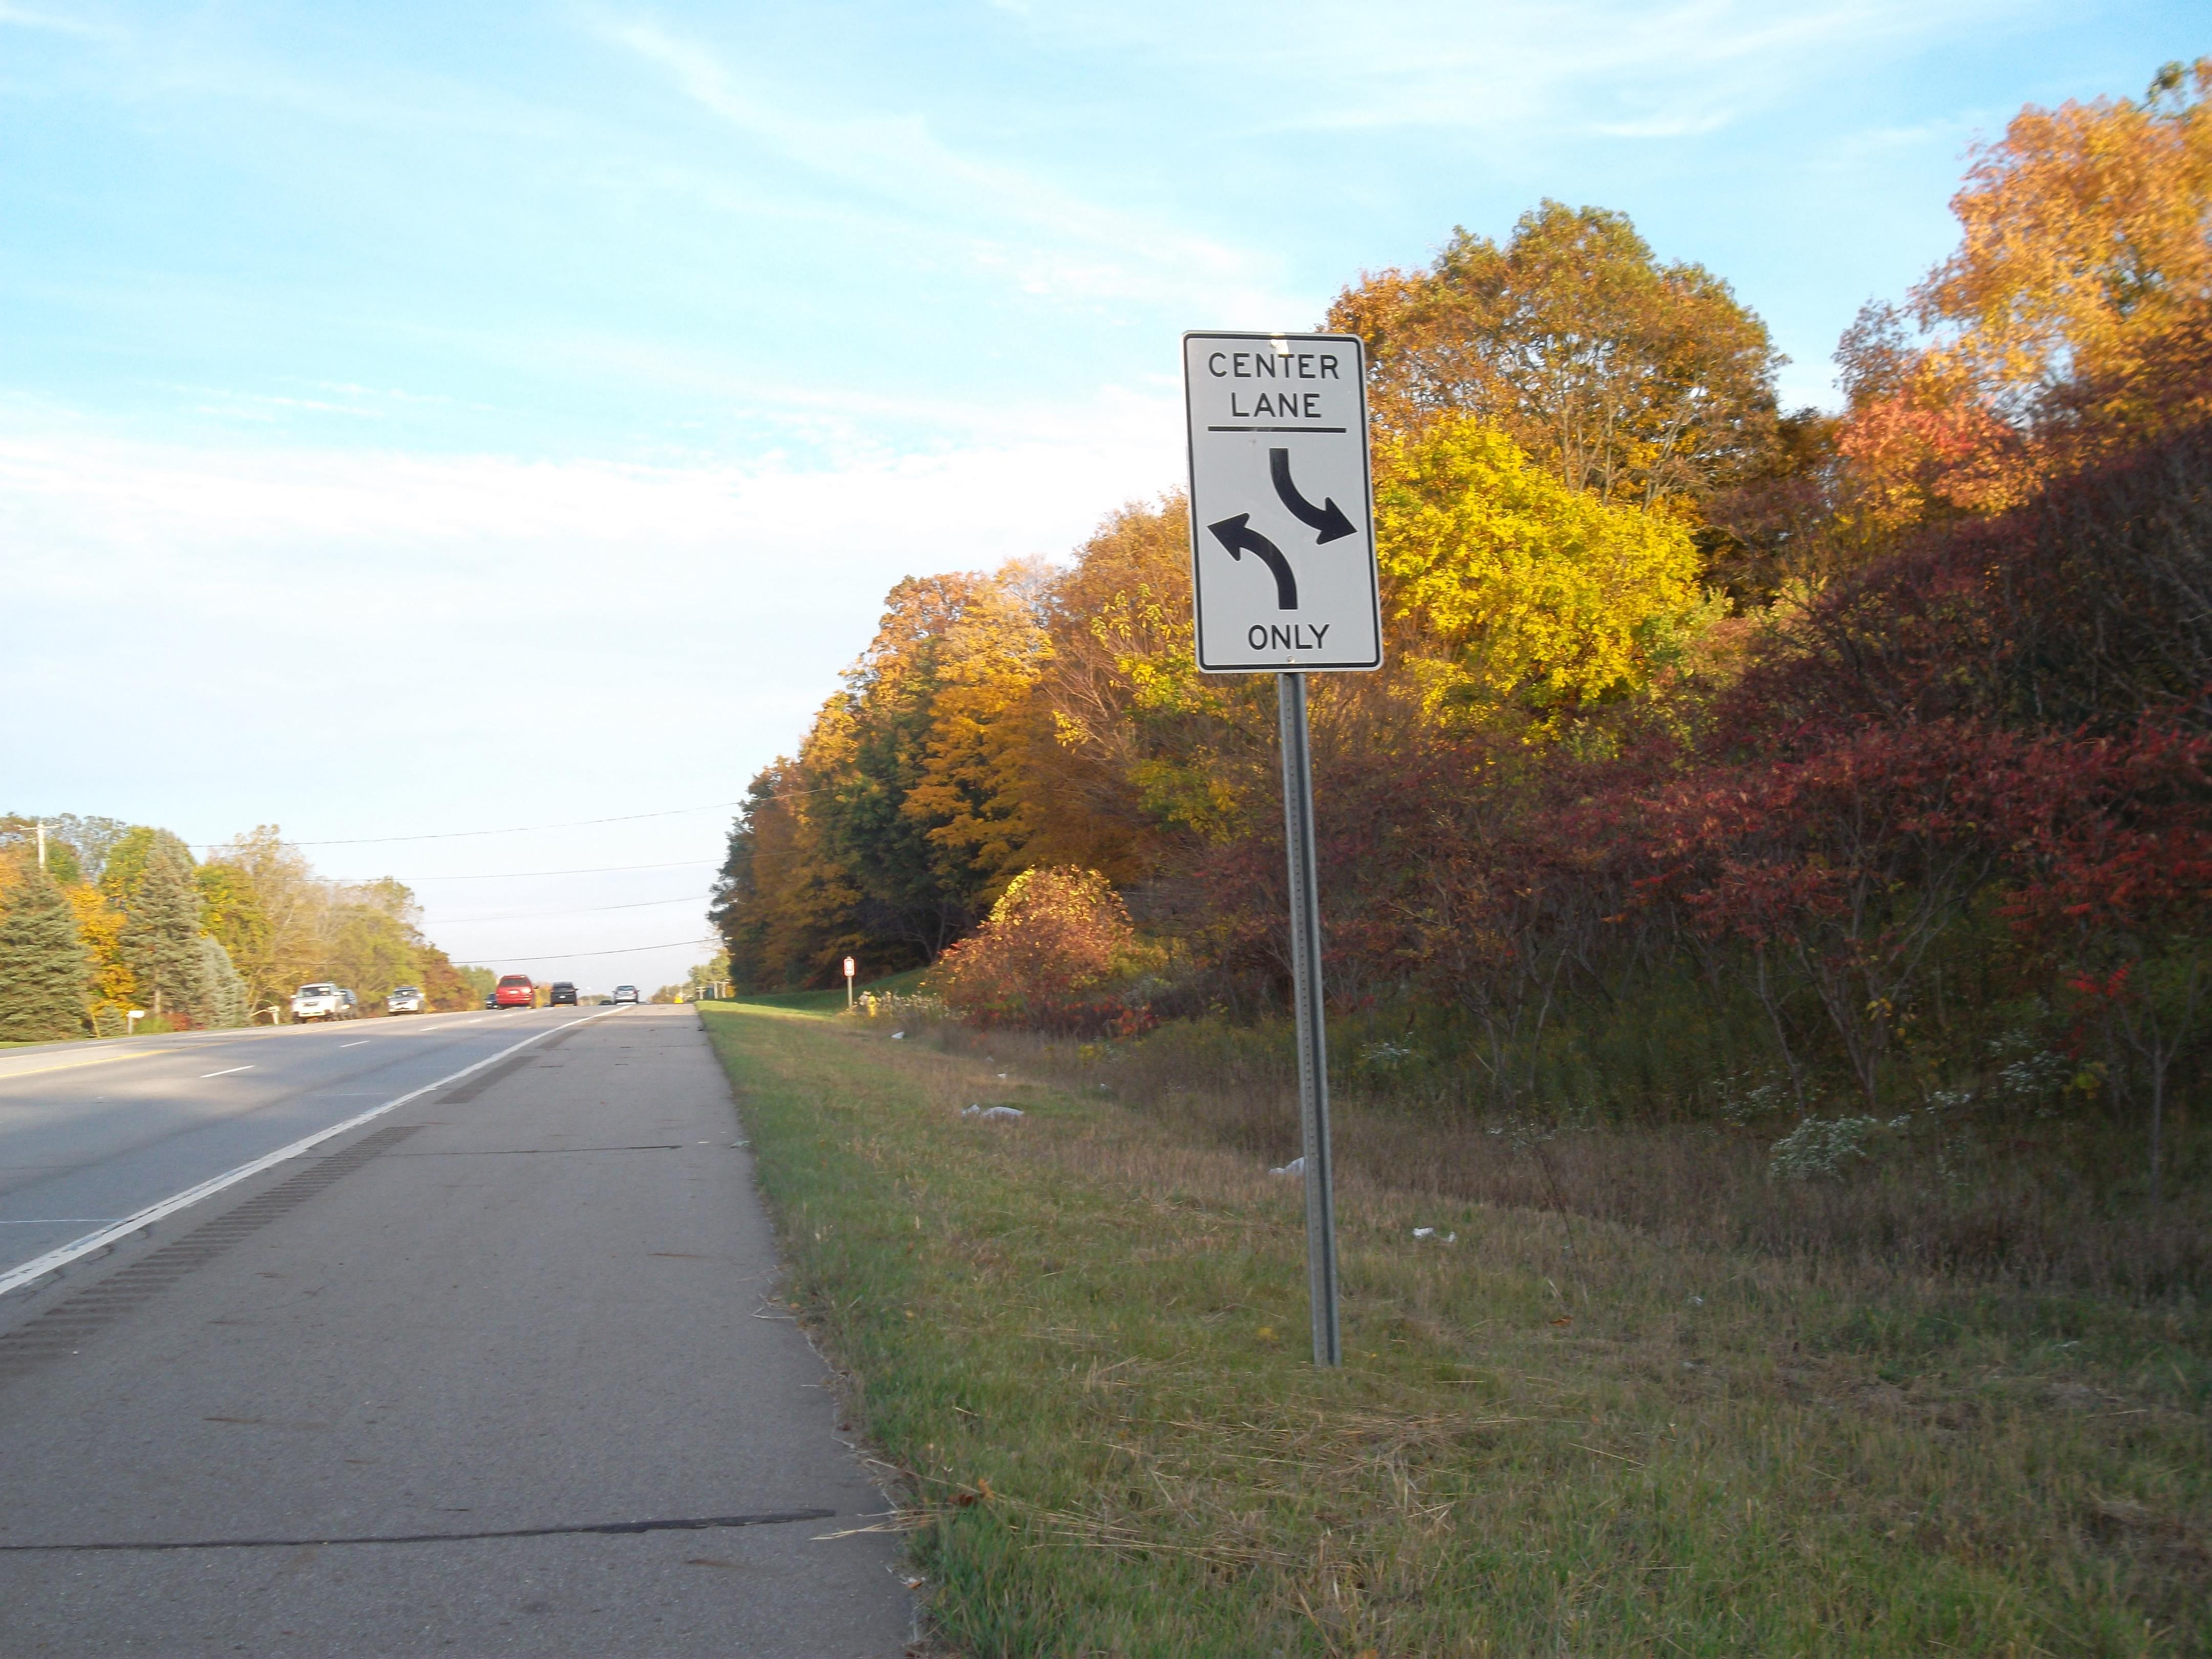regulatory: (1174, 328, 1388, 676)
